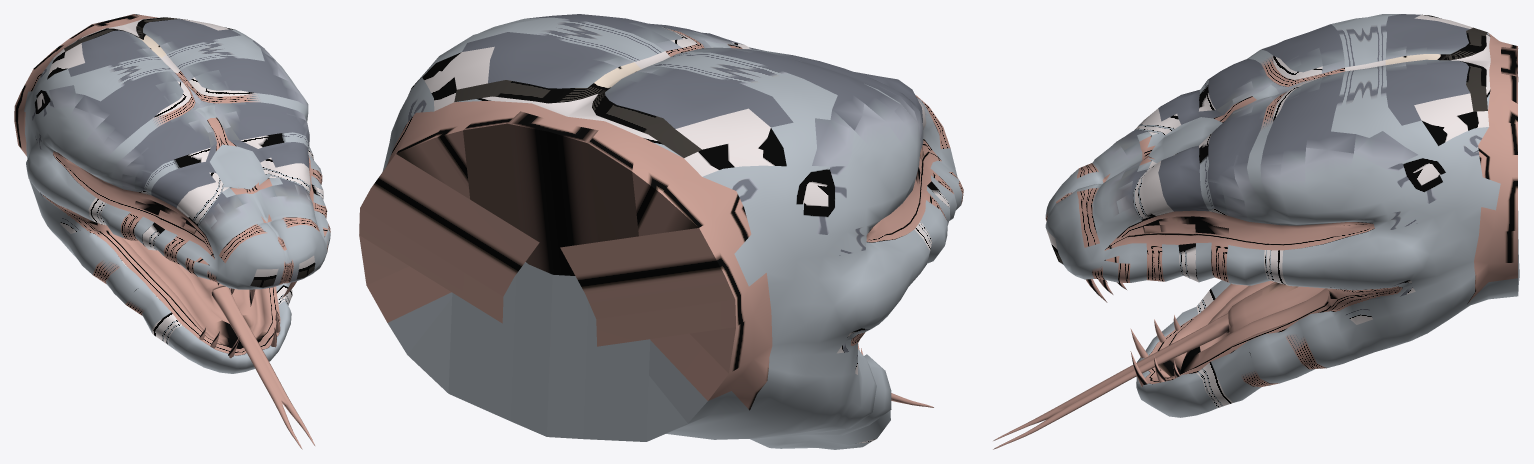
File: anko_snake_head.fbx
3 views of the same model, side by side, from view 1: azimuth 30°, elevation 25°; view 2: azimuth 150°, elevation 25°; view 3: azimuth 270°, elevation 25° (orthographic). The views are drawn at different scales.
Visible parts, largest first — view 1: 2orcspl1_snk00t0 body002; view 2: 2orcspl1_snk00t0 body002; view 3: 2orcspl1_snk00t0 body002.
Part boxes in pixels (box(x1,y1,x2,y2)): 2orcspl1_snk00t0 body002: box(14, 14, 330, 449); 2orcspl1_snk00t0 body002: box(359, 14, 963, 449); 2orcspl1_snk00t0 body002: box(993, 14, 1519, 449).
Size of the model in its own units: 20.95 by 22.74 by 27.81.
